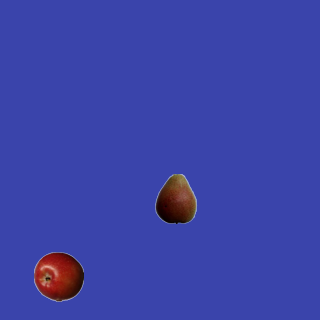Apple Braeburn: (33, 251, 83, 301)
Pear Forelle: (150, 173, 200, 223)
